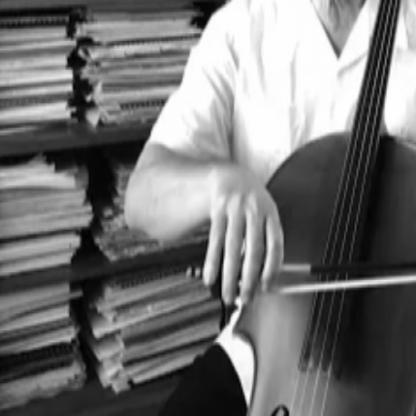good: (201, 156, 293, 313)
